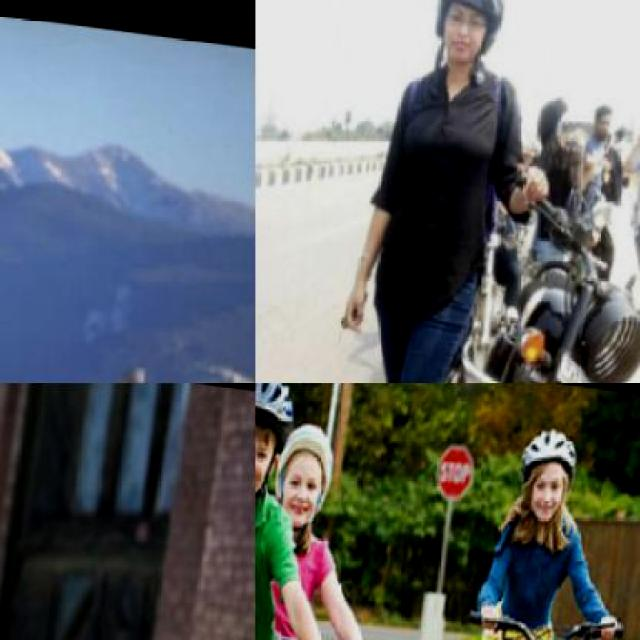With Helmet: (506, 412, 585, 517), (424, 0, 518, 71), (255, 383, 297, 500), (121, 356, 157, 382)
Without Helmet: (275, 410, 342, 528)
